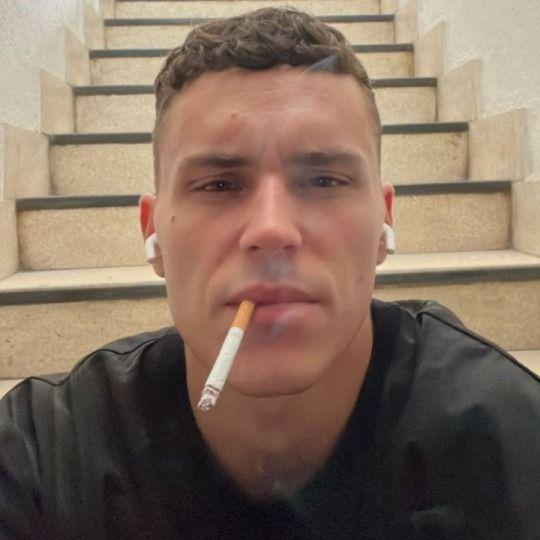cigarette: (197, 299, 257, 412)
